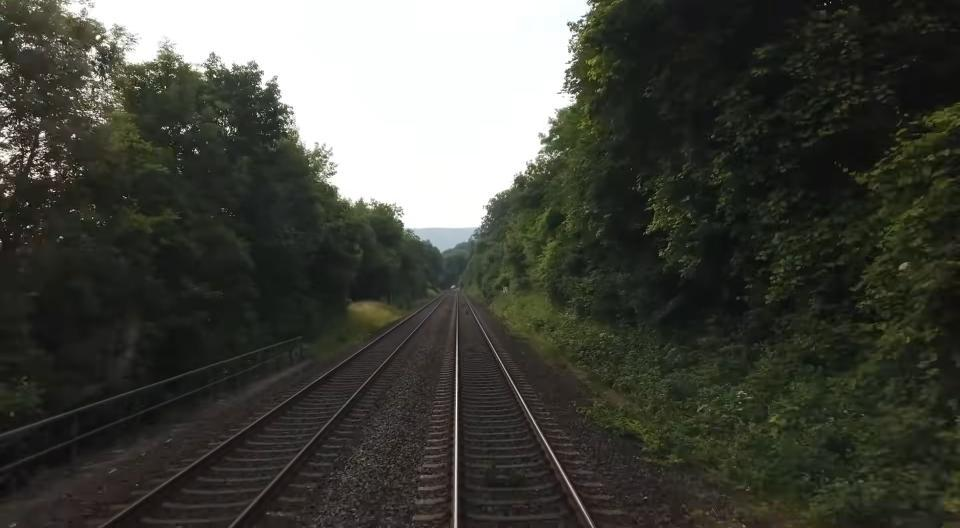Plant: (589, 394, 861, 528), (490, 296, 572, 364), (315, 301, 406, 357)
